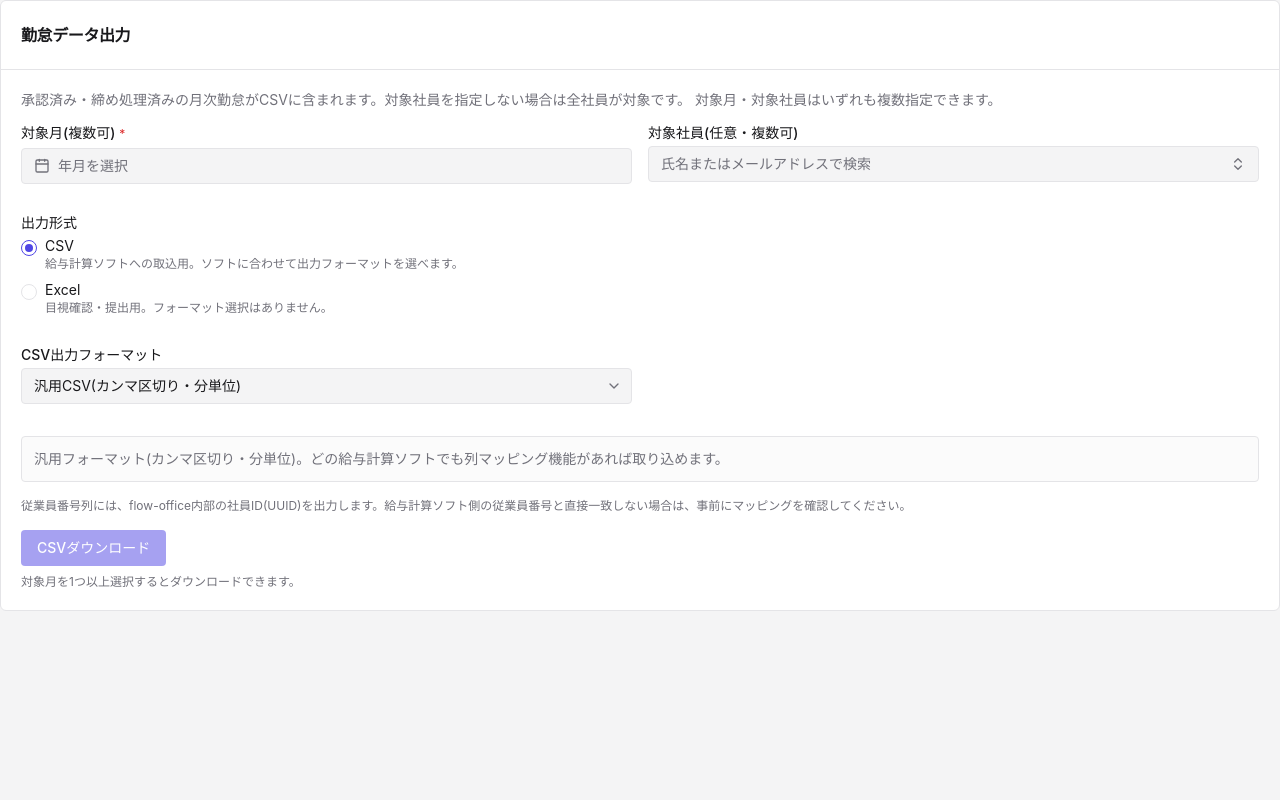
Test: AttendanceExportPage › accumulates multiple target months as removable chips
The width and height of the screenshot is (1280, 800).
Click the button named "対象月(複数可)": (93, 166) x1=21 y1=148 x2=632 y2=184
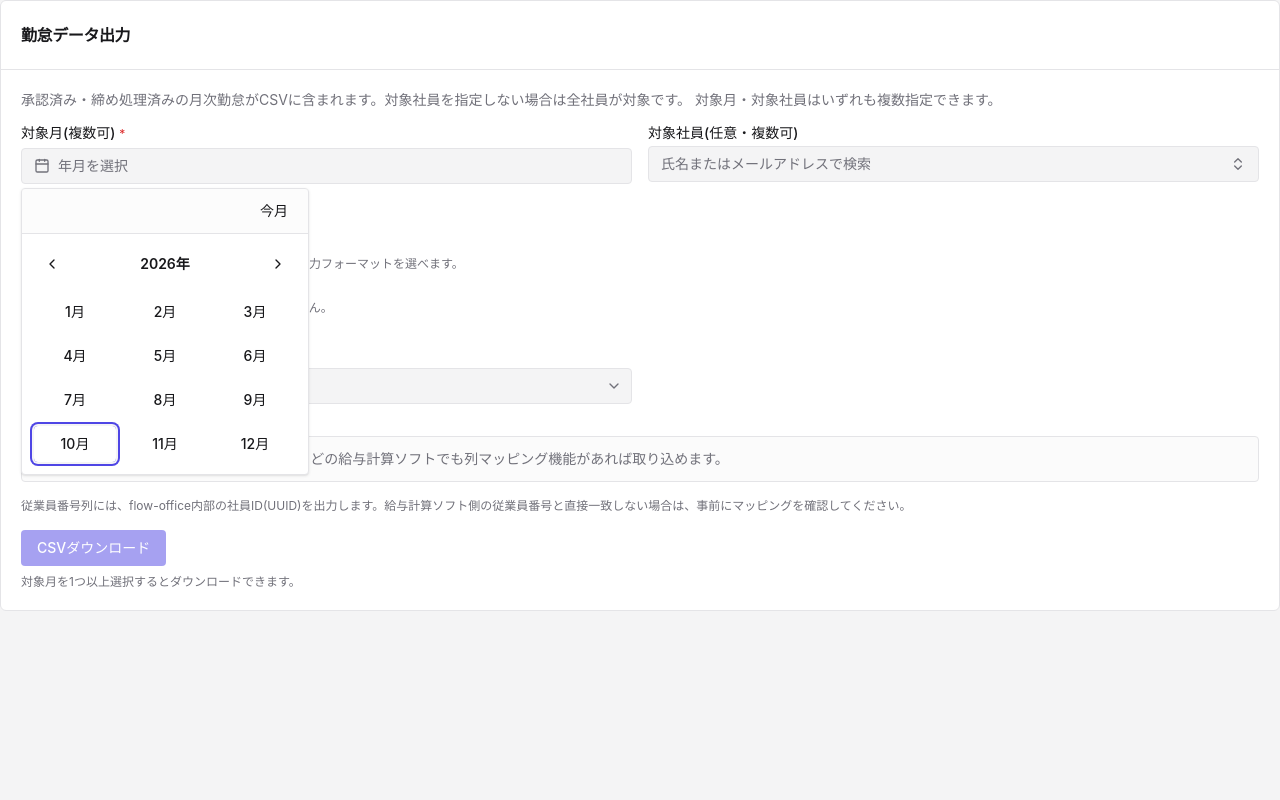
Click the option "6月": (255, 356) x1=214 y1=338 x2=296 y2=374
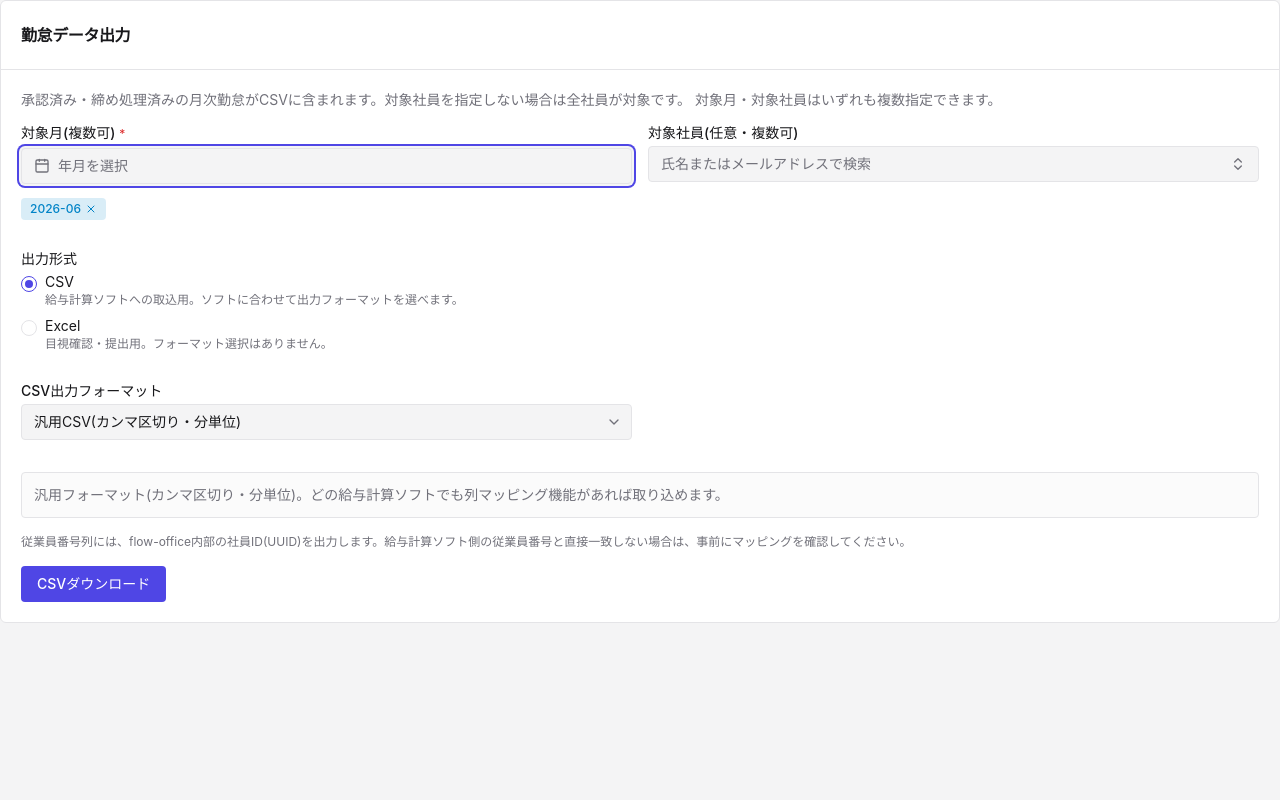
Click the button named "対象月(複数可)": (93, 166) x1=21 y1=148 x2=632 y2=184
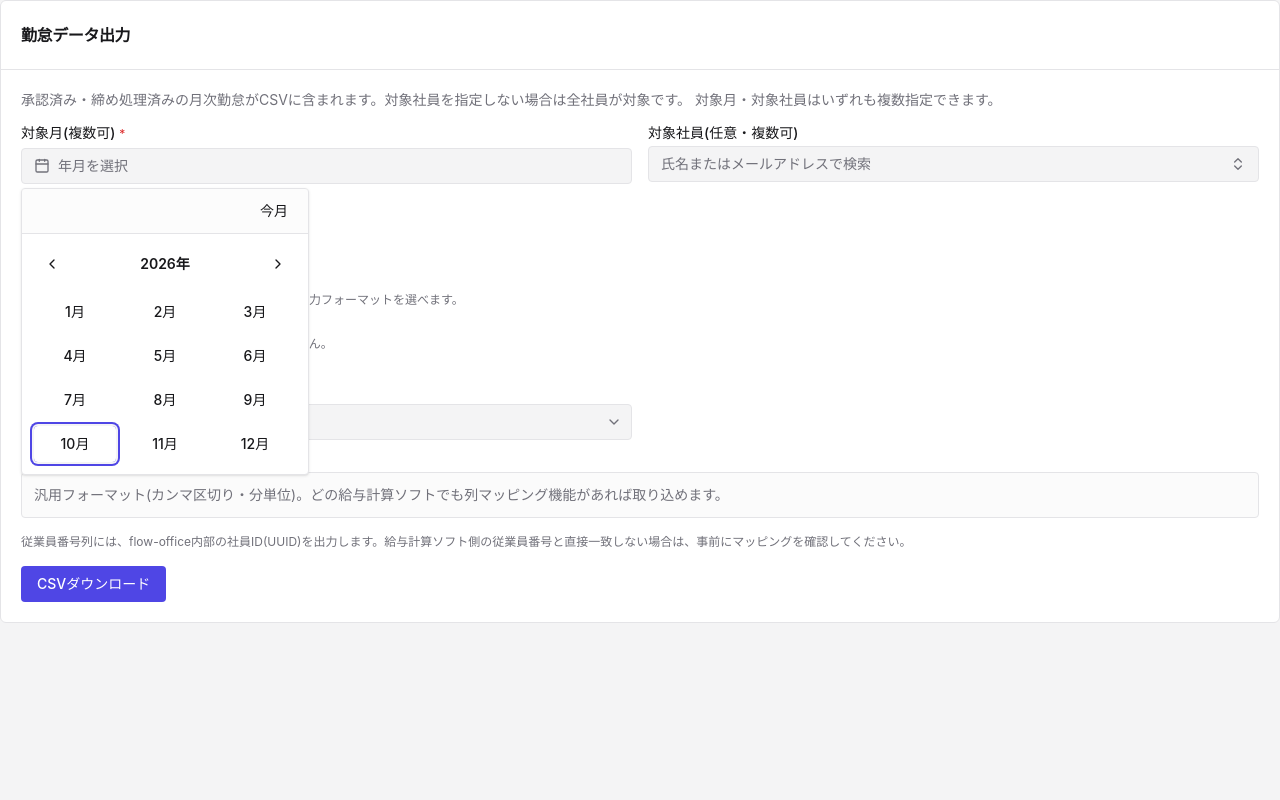
Click the option named "2026年7月": (75, 400) x1=34 y1=382 x2=116 y2=418
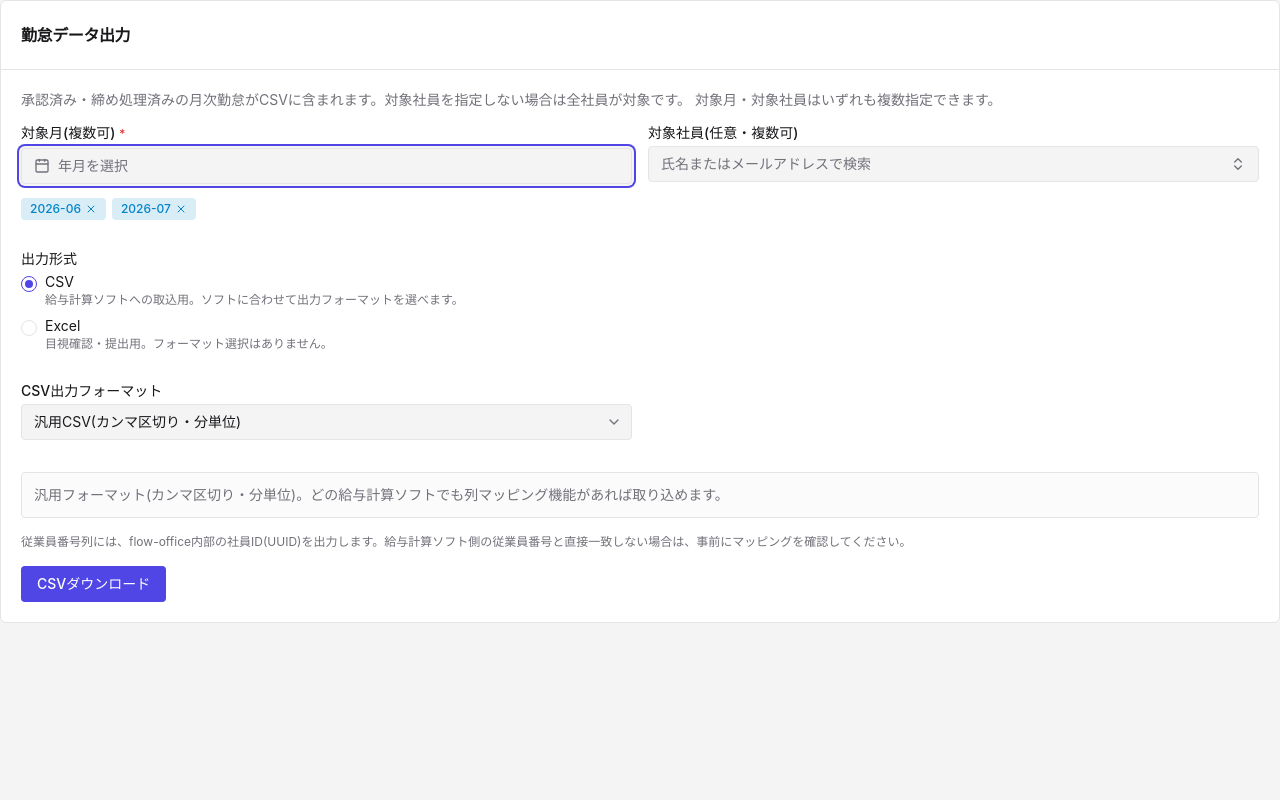
Result: the text "2026-06" is shown at x1=30 y1=201 x2=81 y2=217
Result: the text "2026-07" is shown at x1=121 y1=201 x2=171 y2=217
Click the button named "2026-06を対象から外す": (91, 209) x1=85 y1=203 x2=97 y2=215
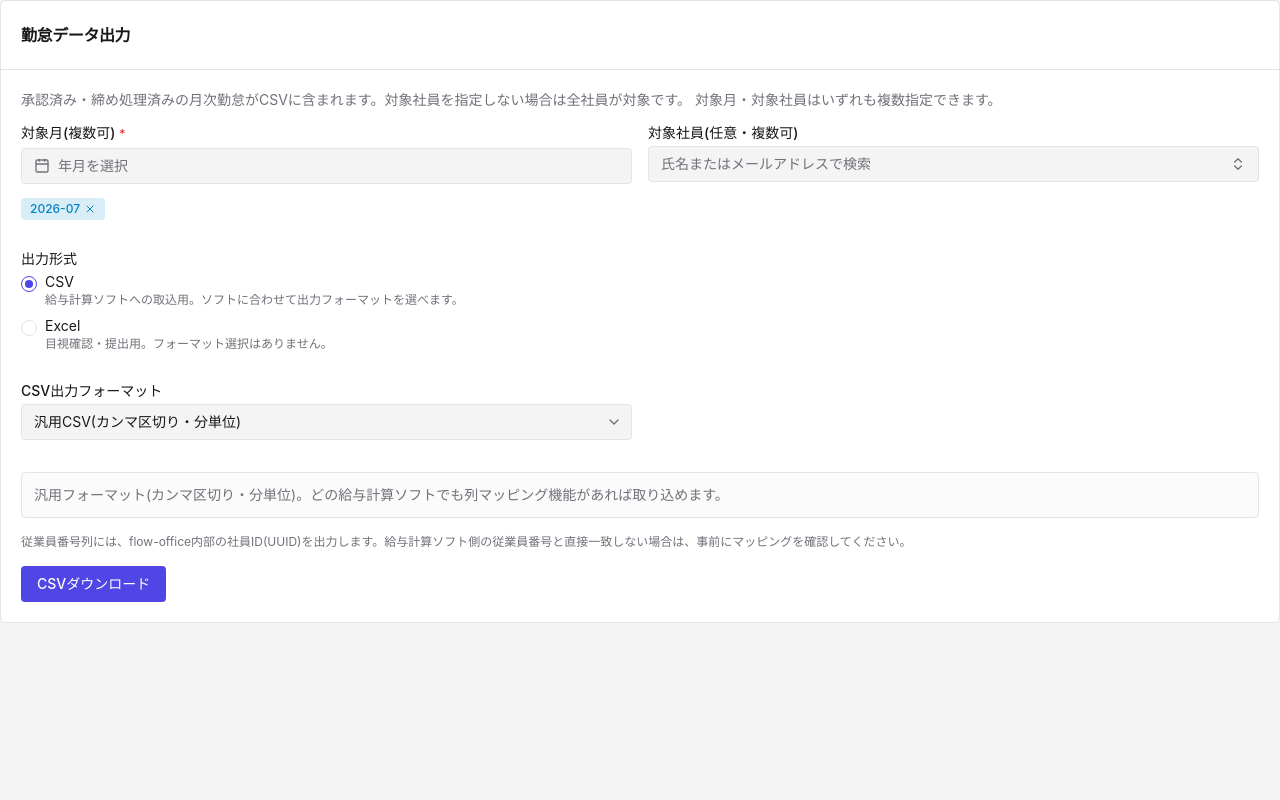
Result: the text "2026-07" is shown at x1=30 y1=201 x2=80 y2=217
Result: the text "2026-06" is gone
